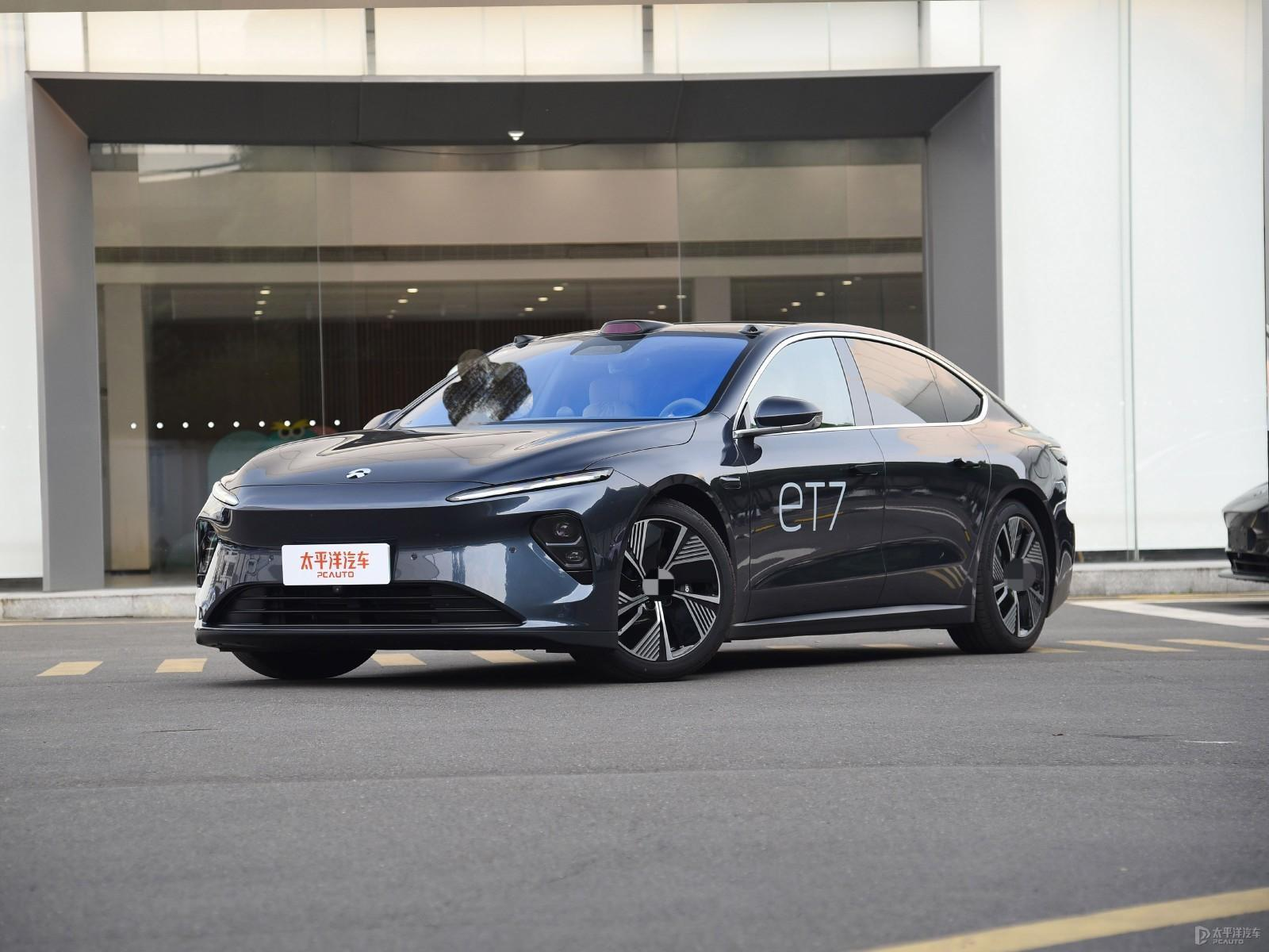NIO: (346, 467, 371, 478)
